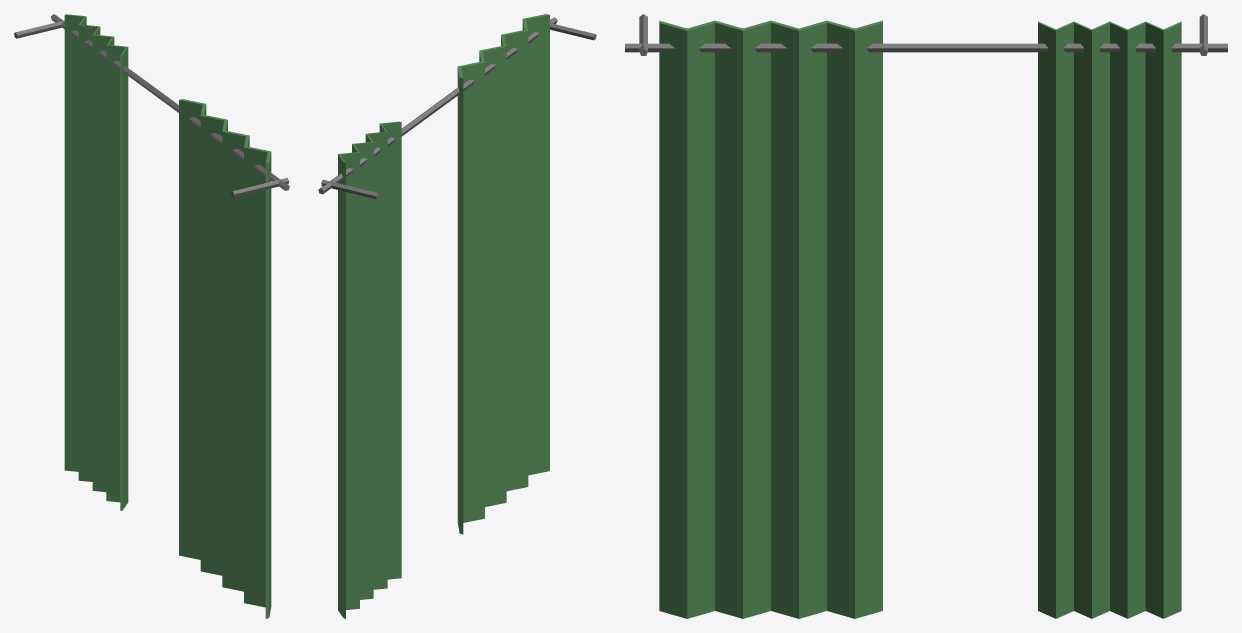
File: curtainGREEN.fbx
3 views of the same model, side by side, from view 1: azimuth 30°, elevation 25°; view 2: azimuth 150°, elevation 25°; view 3: azimuth 270°, elevation 25° (orthographic). The views are drawn at different scales.
Parts seen in each view (by area): view 1: Plane; view 2: Plane; view 3: Plane.
Boxes of the visible parts, x1,y1,x2,y2 form: Plane: [14, 14, 289, 618]; Plane: [318, 14, 596, 618]; Plane: [625, 14, 1227, 618].
Bounding box in the file's own units: 39.81 × 313 × 291.
